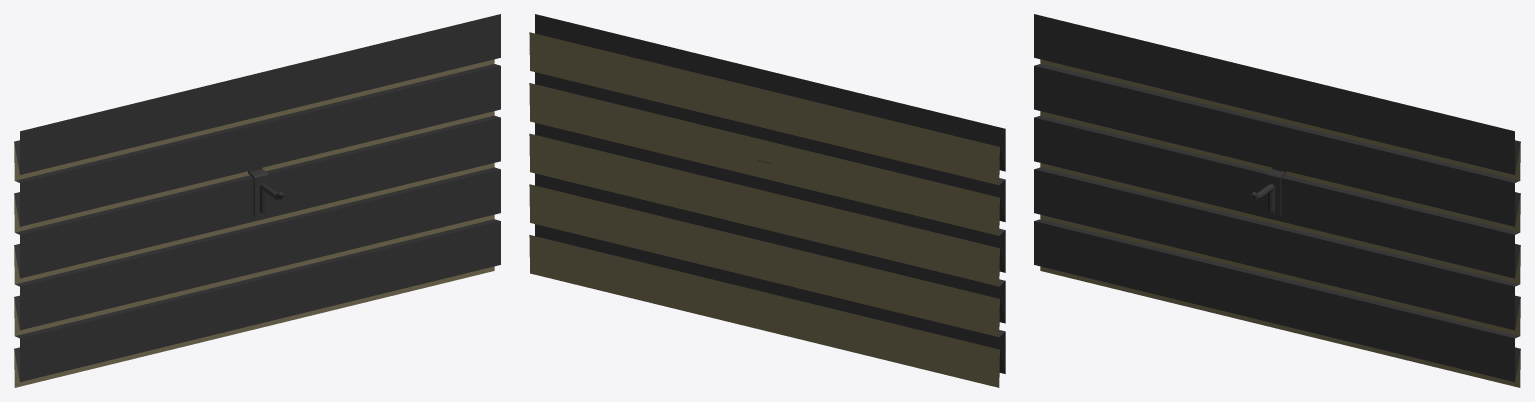
The model's file is SlotWall.fbx.
3 views of the same model, side by side, from view 1: azimuth 30°, elevation 25°; view 2: azimuth 150°, elevation 25°; view 3: azimuth 330°, elevation 25° (orthographic). The views are drawn at different scales.
Visible parts, largest first — view 1: SlotWallPannel, SlotWallHook; view 2: SlotWallPannel; view 3: SlotWallPannel, SlotWallHook.
Part boxes in pixels (x1=…): SlotWallPannel: x1=14, y1=14, x2=500, y2=387; SlotWallHook: x1=248, y1=167, x2=283, y2=216; SlotWallPannel: x1=529, y1=14, x2=1005, y2=387; SlotWallPannel: x1=1034, y1=14, x2=1520, y2=387; SlotWallHook: x1=1251, y1=167, x2=1286, y2=216.
Bounding box in the file's own units: 283 × 146 × 28.3.
